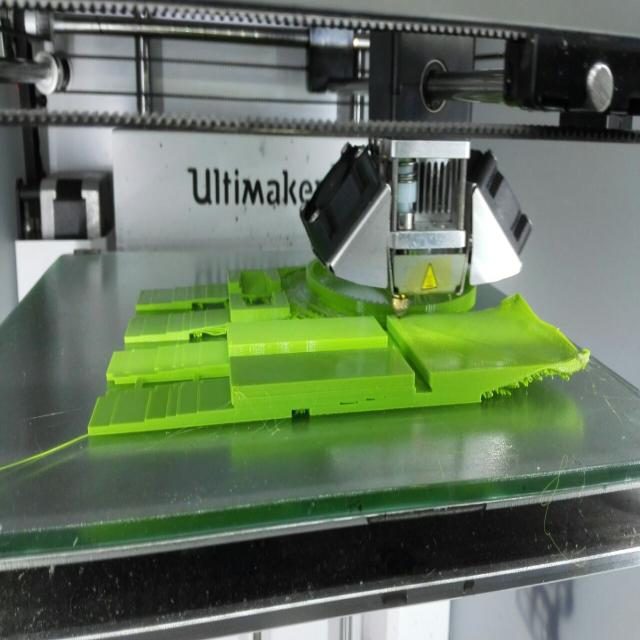Warping: (497, 342, 597, 408)
